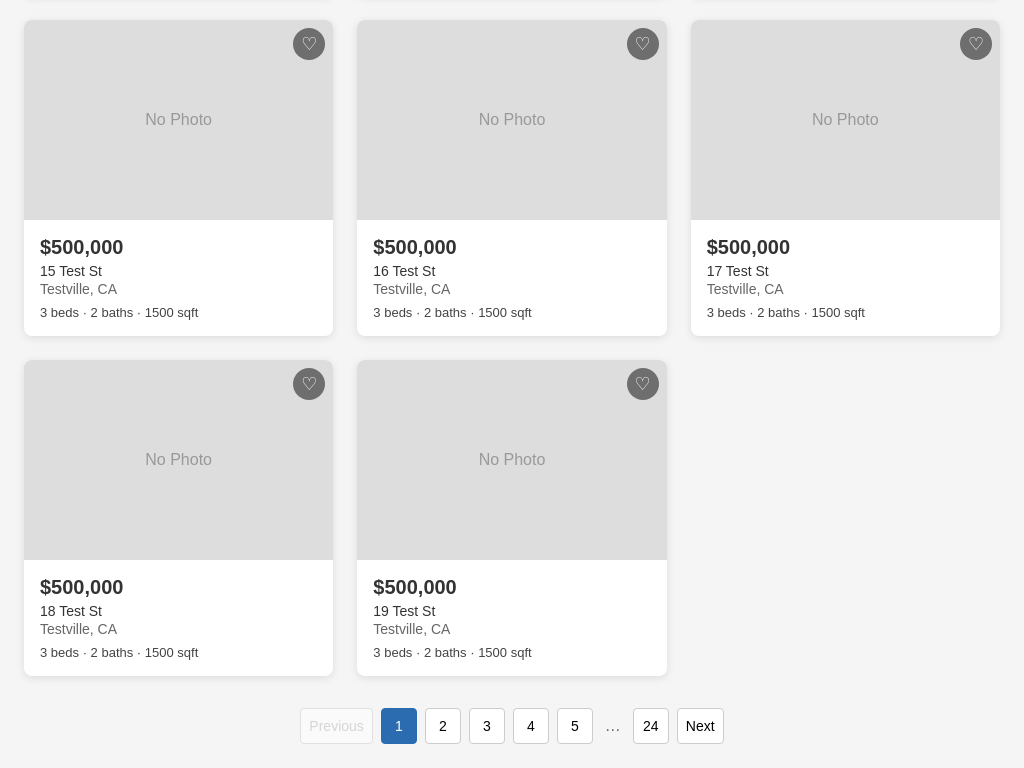
choosing a sort option sends sortBy/sortOrder and resets to page 1
(page scrolled)
Step 1. Click the button "3" → click(487, 726), box top-left (469, 708), bottom-right (505, 744)
(page scrolled)
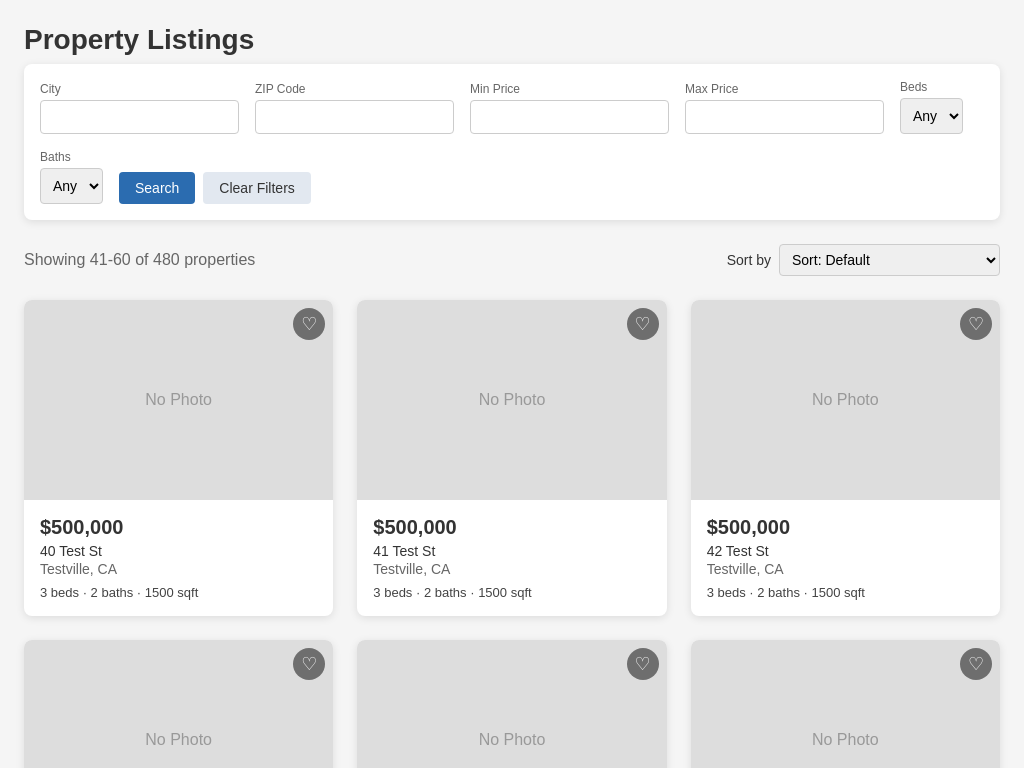
Now the text "Showing 41-60 of 480 properties" is shown, box top-left (24, 251), bottom-right (255, 269)
Step 2. Select "Price: High to Low" in the dropdown labelled "Sort by" → (890, 260), box top-left (779, 244), bottom-right (1000, 276)
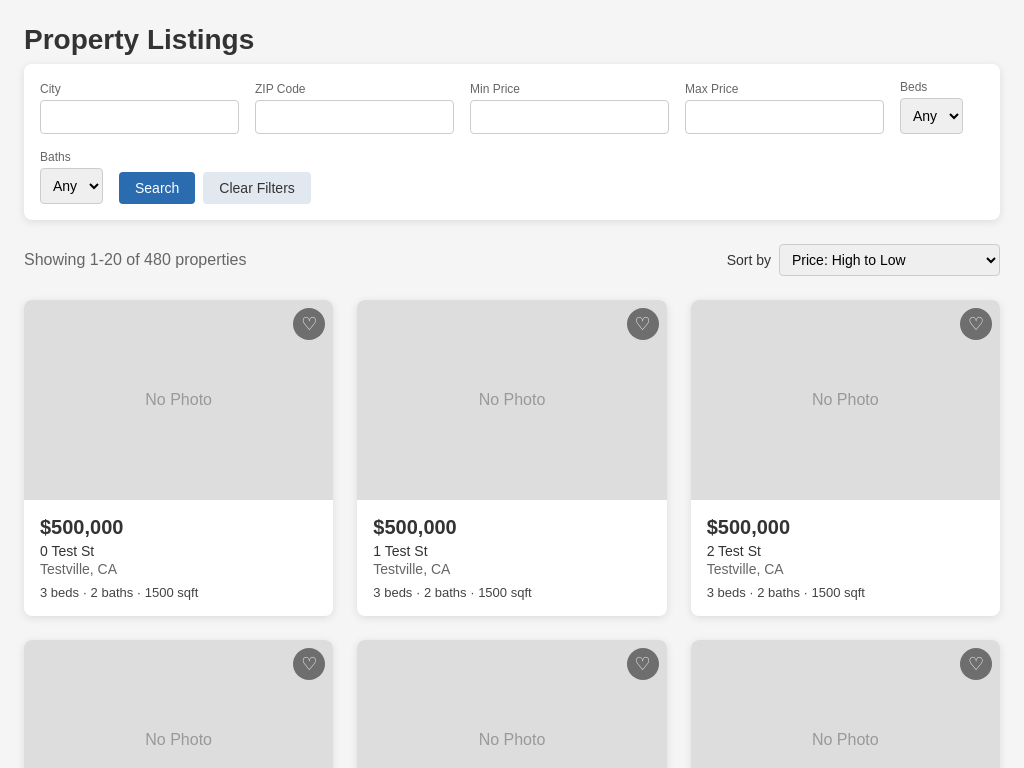
Now the text "Showing 1-20 of 480 properties" is shown, box top-left (24, 251), bottom-right (246, 269)
